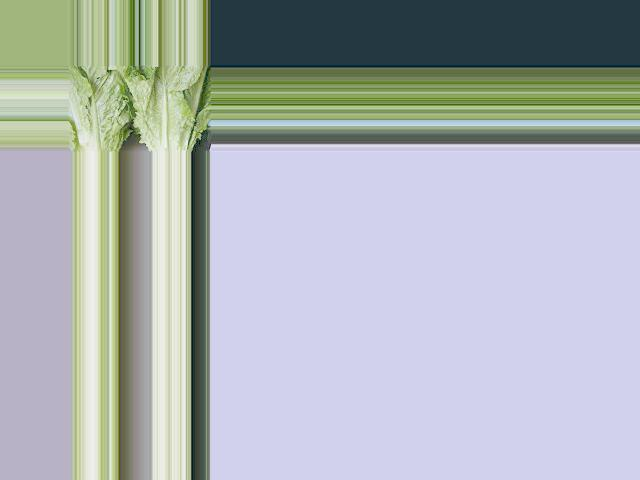lettuce: (72, 70, 128, 152)
